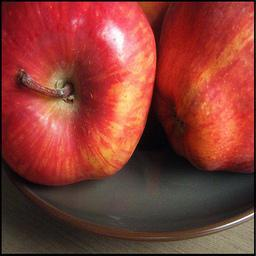apple: (1, 1, 156, 183), (152, 1, 256, 171)
